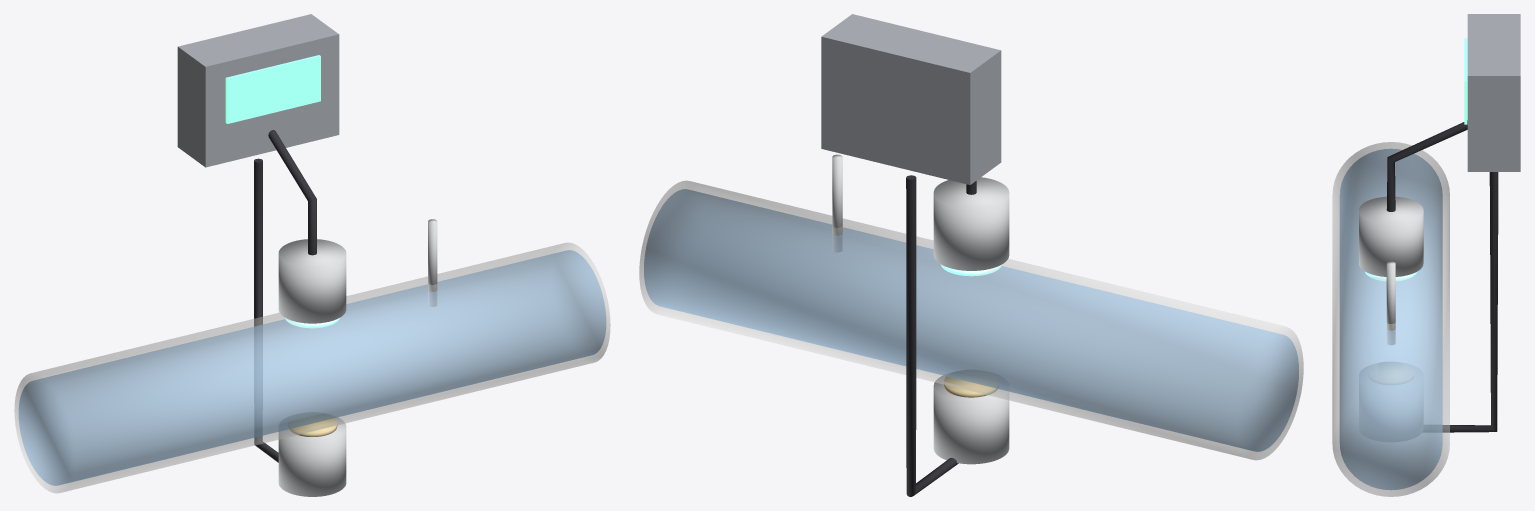
The model's file is ultra.glb.
The picture shows the model from 3 angles, left to right: view 1: azimuth 30°, elevation 25°; view 2: azimuth 150°, elevation 25°; view 3: azimuth 270°, elevation 25°; orthographic projection. The views are drawn at different scales.
Parts seen in each view (by area): view 1: 配管, 配管_液, 变送器, 发射探头_壳, 变送器_屏, 接收探头_壳, 电缆2, 电缆1, 接收探头_压电, 测温元件; view 2: 配管, 配管_液, 变送器, 发射探头_壳, 接收探头_壳, 电缆2, 接收探头_压电, 测温元件; view 3: 配管, 配管_液, 变送器, 发射探头_壳, 电缆2, 电缆1, 测温元件, 接收探头_压电, 变送器_屏.
Boxes of the visible parts, box(x1,y1,x2,y2) form: 配管: box(14, 242, 610, 493); 配管_液: box(18, 250, 606, 485); 变送器: box(177, 14, 339, 167); 发射探头_壳: box(278, 239, 346, 323); 变送器_屏: box(225, 55, 320, 123); 接收探头_壳: box(278, 417, 346, 496); 电缆2: box(254, 158, 278, 462); 电缆1: box(268, 130, 316, 255); 接收探头_压电: box(288, 413, 337, 436); 测温元件: box(428, 219, 437, 306); 配管: box(639, 180, 1303, 460); 配管_液: box(644, 189, 1298, 451); 变送器: box(821, 14, 1001, 184); 发射探头_壳: box(933, 177, 1009, 270); 接收探头_壳: box(933, 375, 1009, 464); 电缆2: box(906, 175, 958, 496); 接收探头_压电: box(944, 371, 998, 397); 测温元件: box(832, 154, 842, 252); 配管: box(1332, 142, 1449, 496); 配管_液: box(1339, 148, 1442, 490); 变送器: box(1467, 14, 1520, 171); 发射探头_壳: box(1359, 196, 1423, 276); 电缆2: box(1442, 172, 1498, 432); 电缆1: box(1386, 120, 1467, 211); 测温元件: box(1386, 261, 1395, 344); 接收探头_压电: box(1378, 362, 1403, 382); 变送器_屏: box(1464, 38, 1467, 124).
Bounding box in the file's own units: 2 × 1.45 × 0.64.
